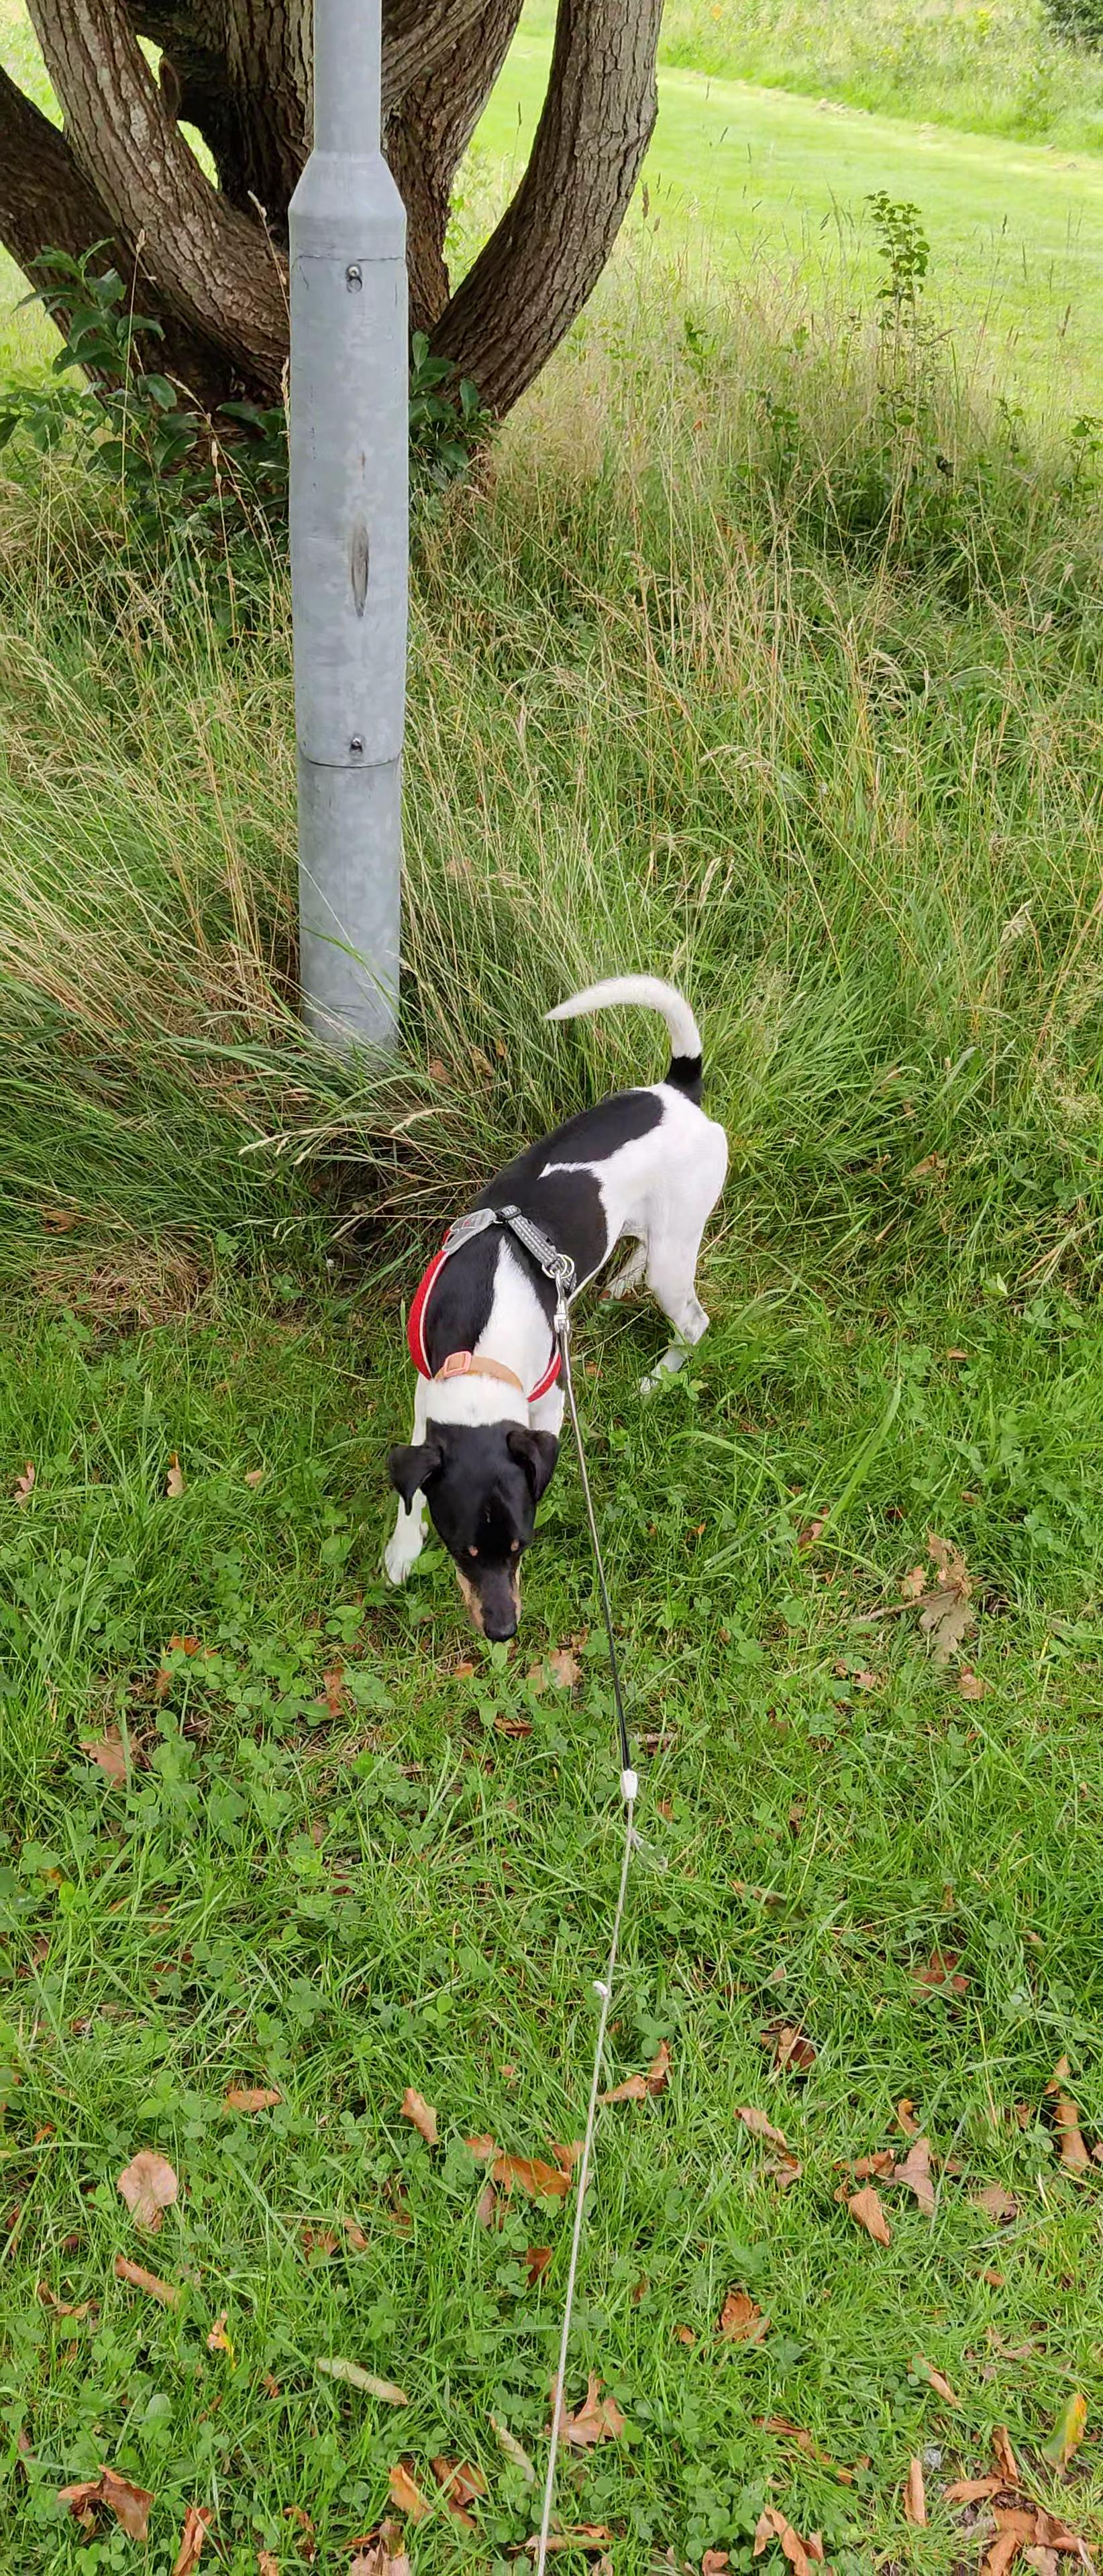Dog: (370, 966, 735, 1646)
